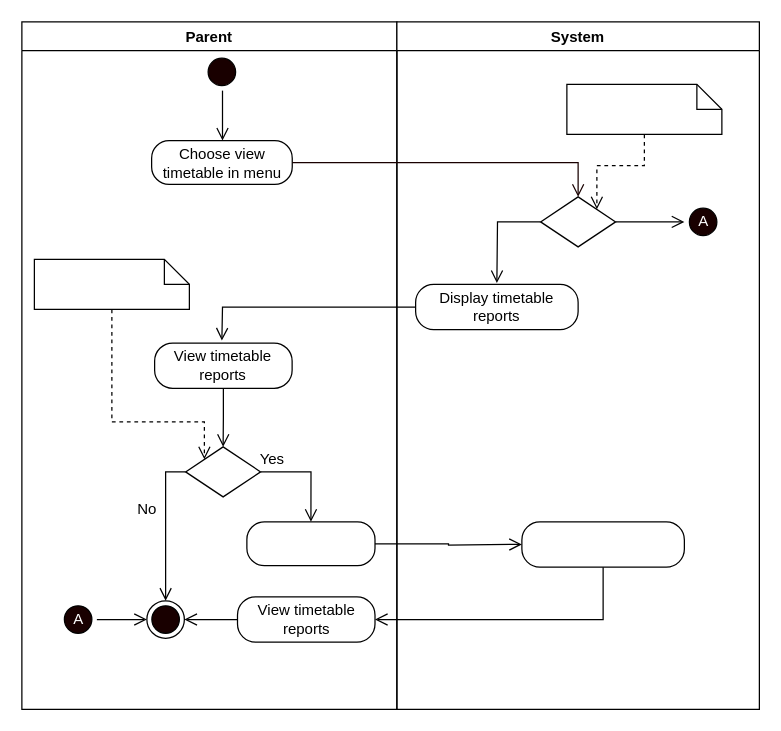
The diagram is 781 pixels wide and 731 high, and some of its shapes have lost their labels. Each missing label, with the centre of its shape:
"Check if the parent wants to filter timetable" goes at point (111, 283).
"Check if the timetable contains activities" goes at point (644, 108).
"Display filtered timetable" goes at point (602, 544).
"Filter timetable by date" goes at point (310, 543).
